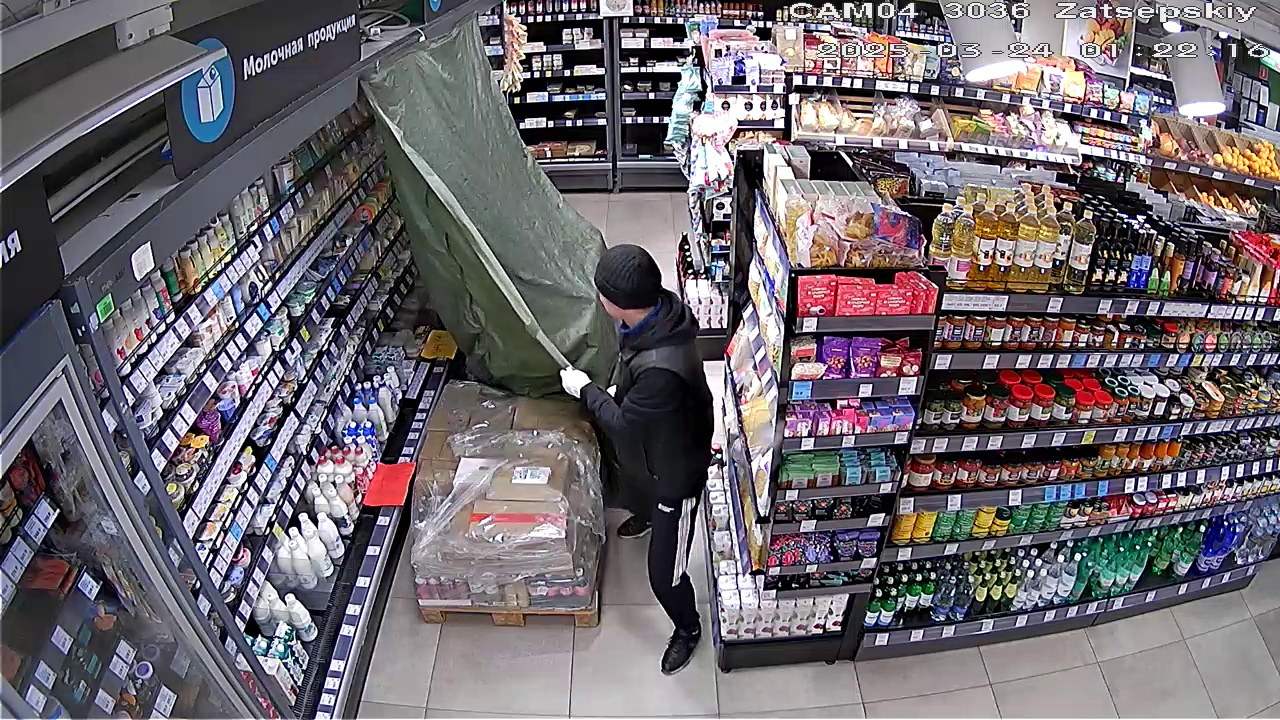Human: (553, 236, 712, 670)
dome: (353, 52, 602, 380)
pallet: (418, 392, 603, 618)
